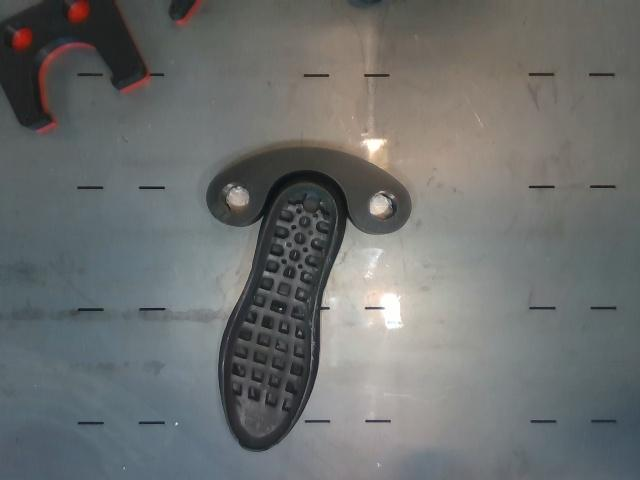shoes: (223, 184, 337, 451)
